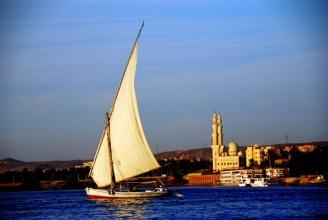fanchuan: (83, 16, 177, 201)
